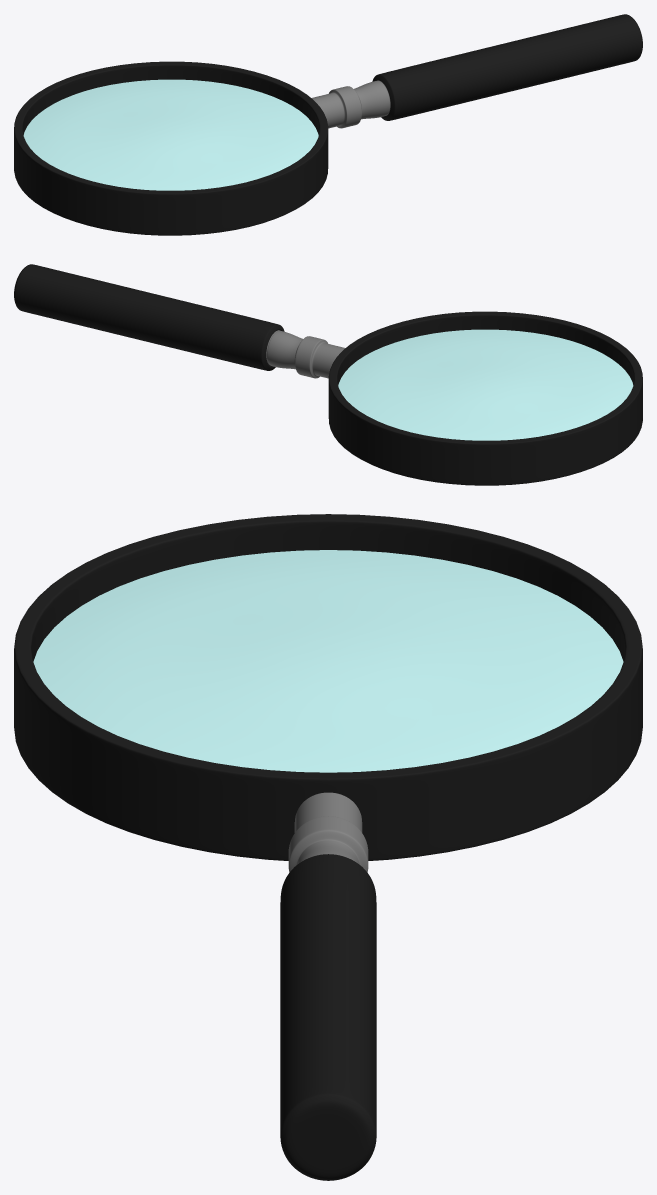
File: Magnify_glass_OBJ.obj
3 views of the same model, one above another, from view 1: azimuth 30°, elevation 25°; view 2: azimuth 150°, elevation 25°; view 3: azimuth 270°, elevation 25° (orthographic). The views are drawn at different scales.
Parts seen in each view (by area): view 1: Magnificient_glass; view 2: Magnificient_glass; view 3: Magnificient_glass.
Boxes of the visible parts, bbox=[...] form: Magnificient_glass: bbox=[14, 14, 642, 235]; Magnificient_glass: bbox=[14, 264, 642, 485]; Magnificient_glass: bbox=[14, 514, 642, 1180].
Bounding box in the file's own units: 170 × 11.93 × 77.6.
